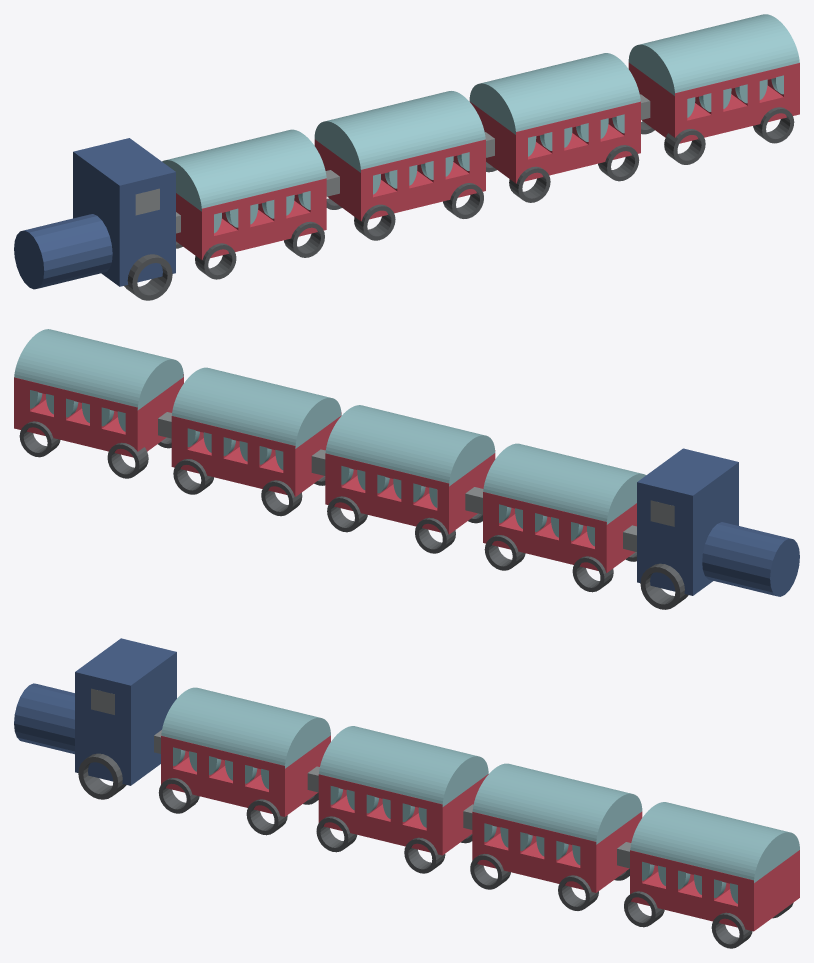
Rendered from Train.glb.
The picture shows the model from 3 angles, top to bottom: view 1: azimuth 30°, elevation 25°; view 2: azimuth 150°, elevation 25°; view 3: azimuth 330°, elevation 25°; orthographic projection.
Visible parts, largest first — view 1: Mesh_Mesh_head_geo.001_lambert2SG.001; view 2: Mesh_Mesh_head_geo.001_lambert2SG.001; view 3: Mesh_Mesh_head_geo.001_lambert2SG.001.
Part boxes in pixels (<box>): Mesh_Mesh_head_geo.001_lambert2SG.001: <box>14,14,799,300</box>; Mesh_Mesh_head_geo.001_lambert2SG.001: <box>14,329,799,609</box>; Mesh_Mesh_head_geo.001_lambert2SG.001: <box>14,638,799,948</box>.
Bounding box in the file's own units: 186 × 28 × 24.
